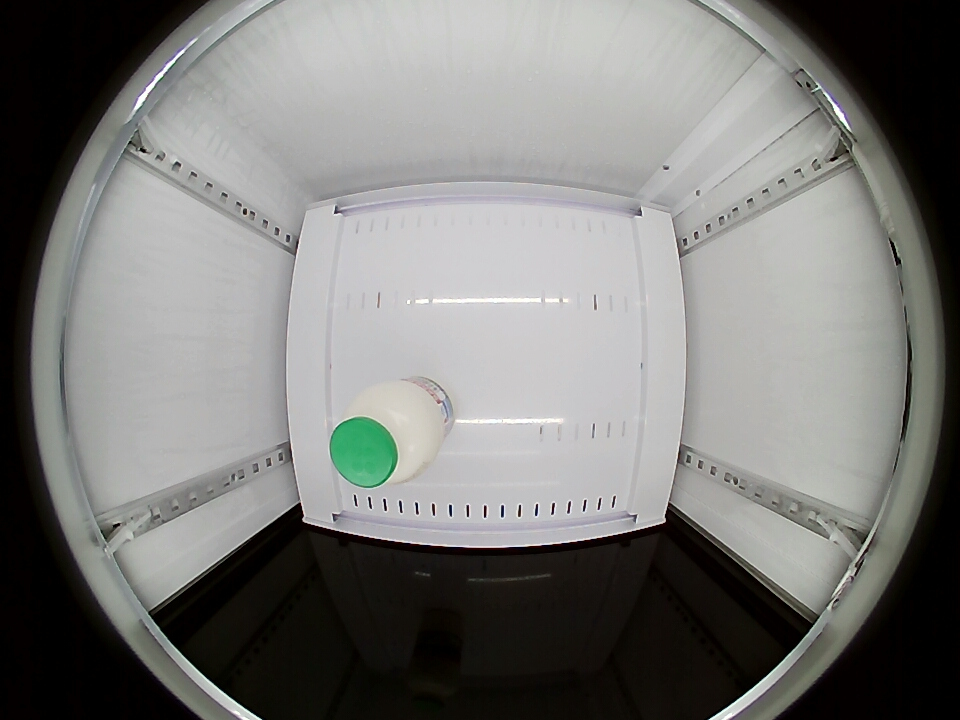liziyuan: (330, 378, 447, 489)
